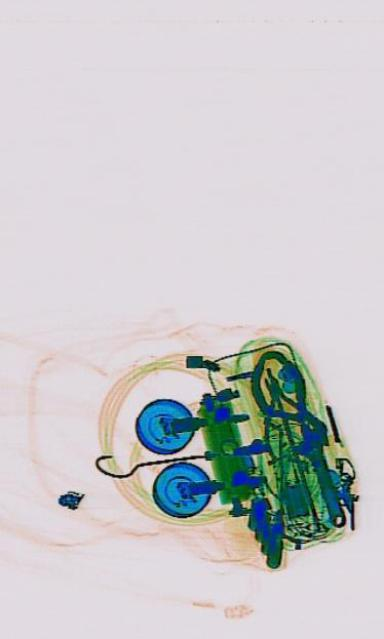Pliers: (240, 348, 323, 475)
Wrench: (285, 408, 354, 540)
